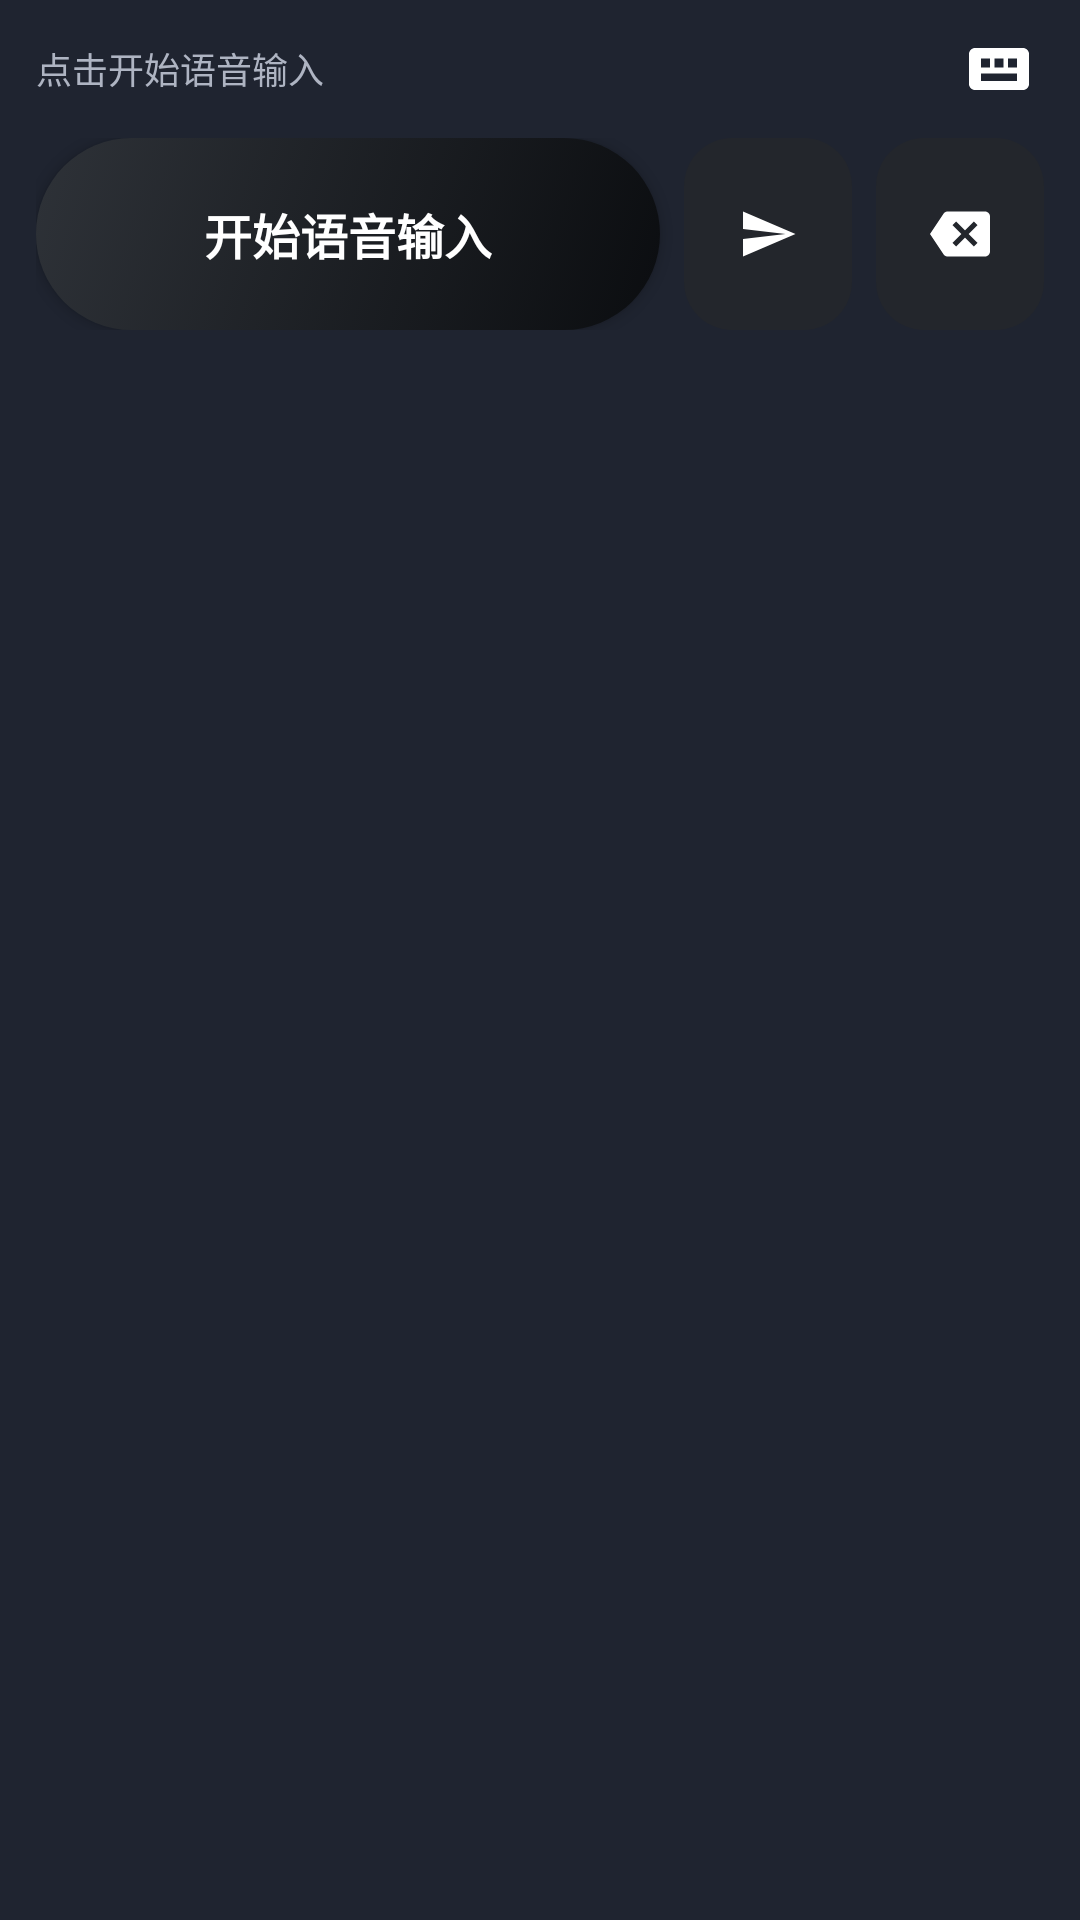

Named icons in this screenshot (1080px×1920px) and their bounding boxes, (x1, y1, x2, y2):
切换键盘: (969, 48, 1029, 90)
发送: (743, 211, 795, 257)
退格删除: (930, 211, 990, 257)
